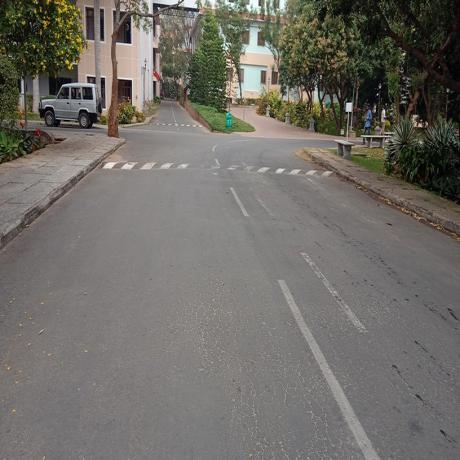Speed Bump: (100, 155, 335, 179)
